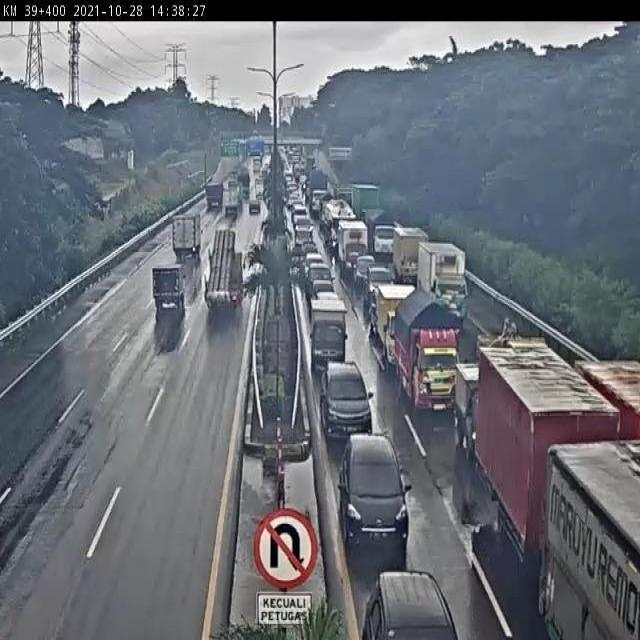big truck: (474, 339, 616, 557), (552, 441, 640, 640), (579, 356, 640, 436), (207, 244, 243, 308), (327, 201, 356, 251), (204, 180, 224, 209)
car: (341, 429, 413, 554), (363, 562, 460, 640), (324, 364, 372, 440), (369, 266, 395, 294), (356, 248, 376, 281), (311, 279, 338, 296), (310, 266, 338, 282), (318, 290, 343, 306), (307, 254, 327, 270), (248, 196, 261, 211)
small truck: (399, 289, 458, 412), (458, 361, 505, 455), (421, 243, 471, 320), (378, 287, 418, 365), (309, 304, 355, 363), (393, 229, 432, 284), (338, 221, 373, 272), (369, 208, 397, 264), (172, 215, 205, 257), (154, 262, 188, 302), (353, 184, 383, 220), (224, 191, 242, 217)
